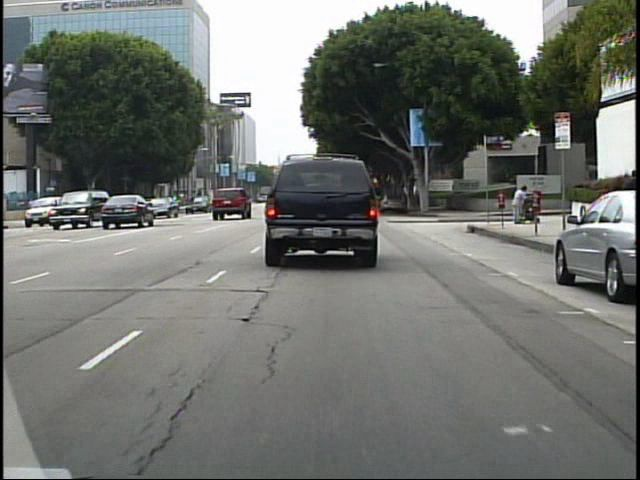person: (612, 163, 635, 235), (509, 181, 530, 229)
